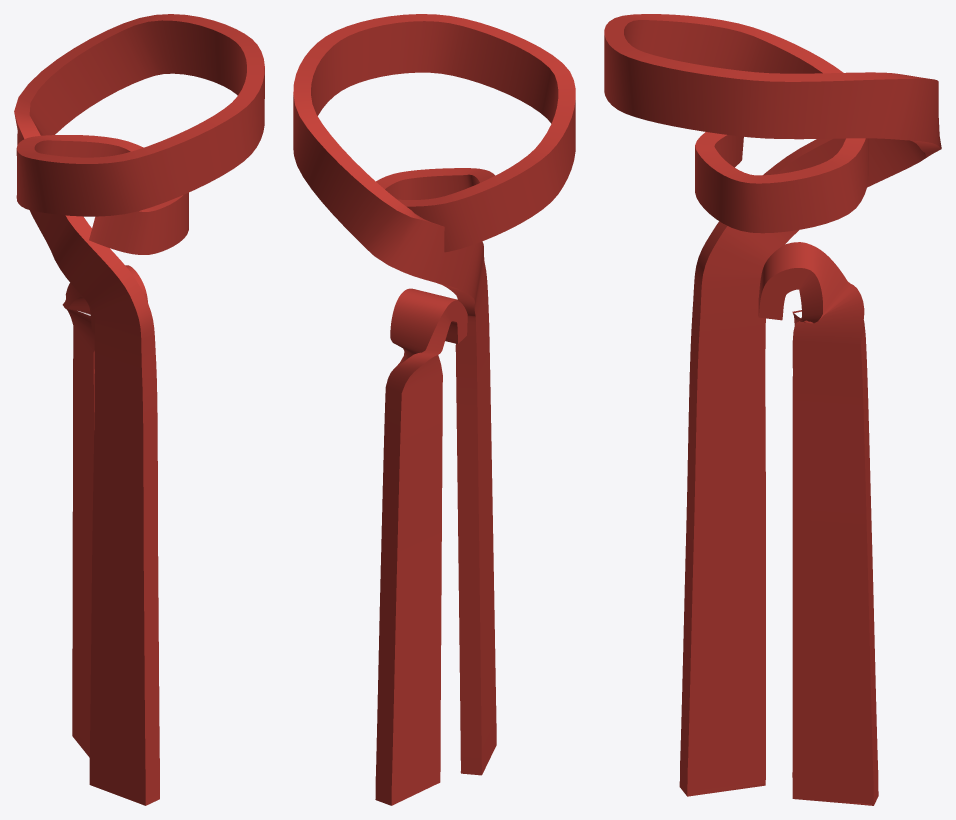
Rendered from sat-torch-of-friendship.glb.
3 renders of one model, left to right at view 1: azimuth 30°, elevation 25°; view 2: azimuth 150°, elevation 25°; view 3: azimuth 270°, elevation 25°, orthographic. The views are drawn at different scales.
Parts seen in each view (by area): view 1: Torch of Friendship; view 2: Torch of Friendship; view 3: Torch of Friendship.
Boxes of the visible parts, x1,y1,x2,y2 form: Torch of Friendship: [14, 14, 264, 805]; Torch of Friendship: [293, 14, 575, 805]; Torch of Friendship: [604, 14, 941, 805].
Bounding box in the file's own units: 6.68 × 19.84 × 7.76.
